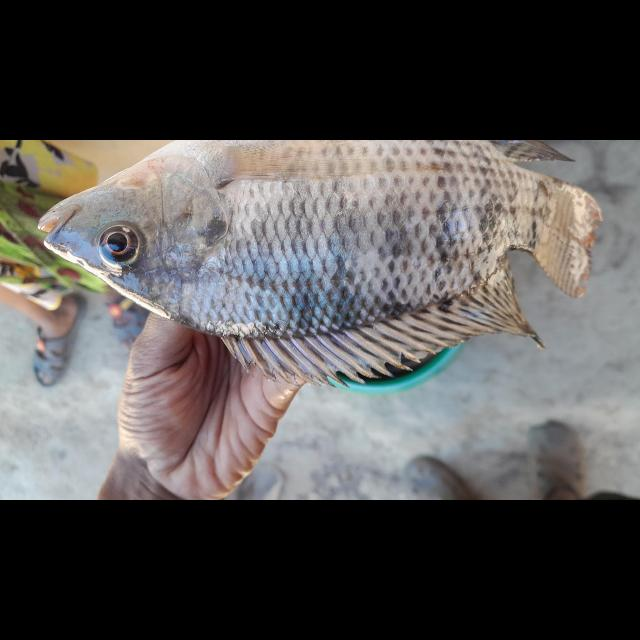Tilapia: (36, 140, 602, 386)
